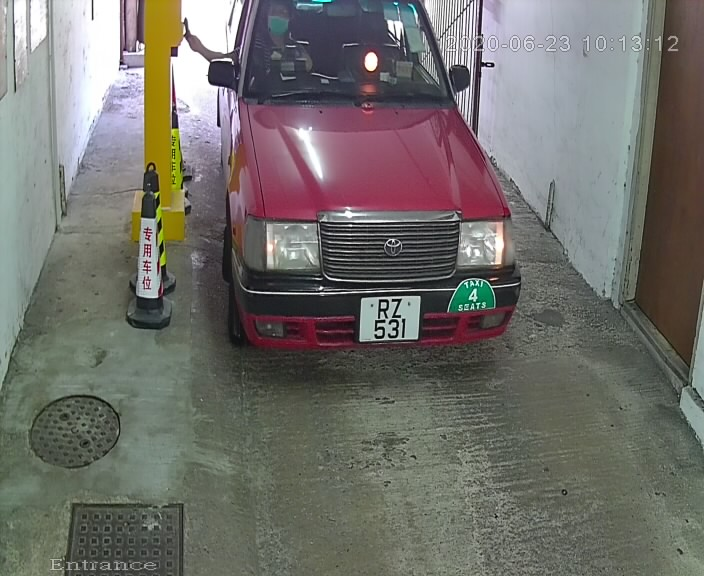taxi: (195, 2, 567, 391)
taxi_mark: (434, 270, 508, 321)
